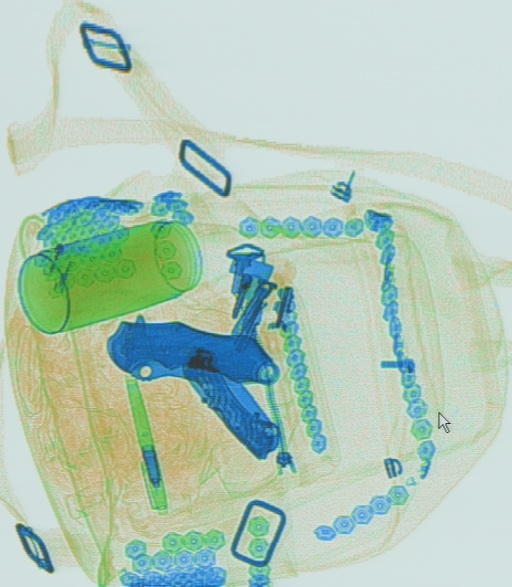knife: (104, 309, 283, 385), (174, 339, 285, 461)
lighter: (38, 201, 104, 297)
